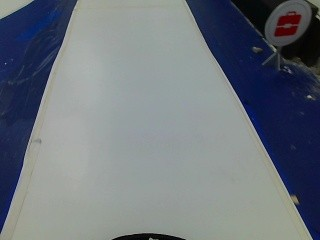company: (261, 0, 312, 45)
